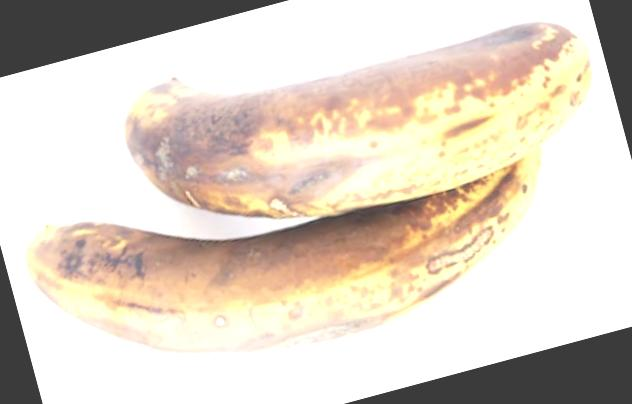Banana Overripe: (7, 52, 618, 338)
